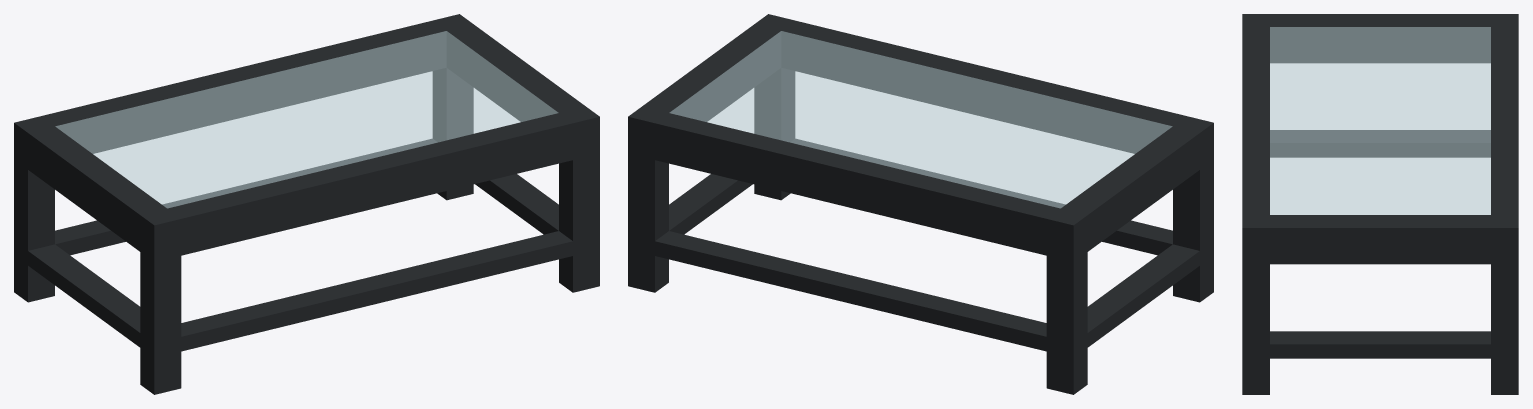
File: table-coffee-glass.glb
3 renders of one model, left to right at view 1: azimuth 30°, elevation 25°; view 2: azimuth 150°, elevation 25°; view 3: azimuth 270°, elevation 25°, orthographic.
Visible parts, largest first — view 1: table-coffee-glass; view 2: table-coffee-glass; view 3: table-coffee-glass.
Part boxes in pixels (left/top/right/bottom): table-coffee-glass: left=14, top=14, right=599, bottom=394; table-coffee-glass: left=628, top=14, right=1213, bottom=394; table-coffee-glass: left=1242, top=14, right=1518, bottom=394.
Size of the model in its own units: 1.1 by 0.4 by 0.6.
